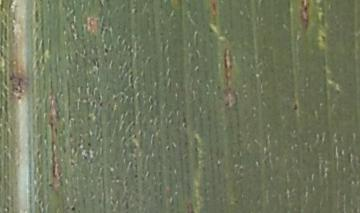tarspot: (289, 102, 302, 113), (100, 45, 112, 56), (68, 203, 77, 213)
